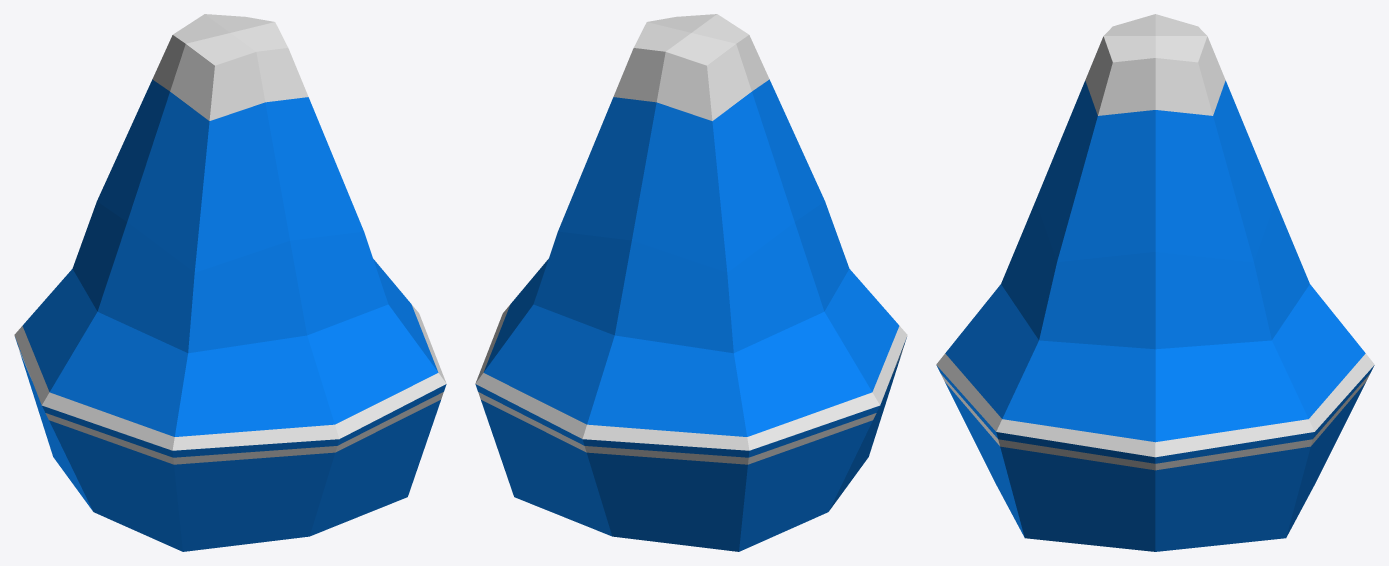
File: luz azul.fbx
3 renders of one model, left to right at view 1: azimuth 30°, elevation 25°; view 2: azimuth 150°, elevation 25°; view 3: azimuth 270°, elevation 25°, orthographic.
Visible parts, largest first — view 1: Cube; view 2: Cube; view 3: Cube.
Boxes of the visible parts, x1=… form: Cube: x1=14, y1=14, x2=446, y2=551; Cube: x1=475, y1=14, x2=907, y2=551; Cube: x1=936, y1=14, x2=1374, y2=551.
Bounding box in the file's own units: 298 × 378 × 298.
